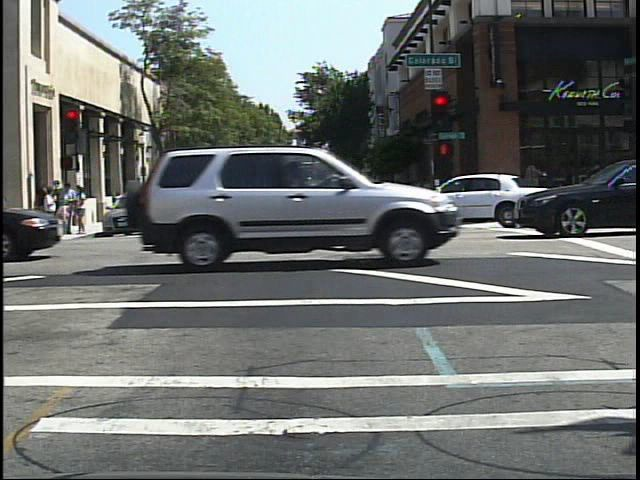person: (119, 181, 138, 223)
